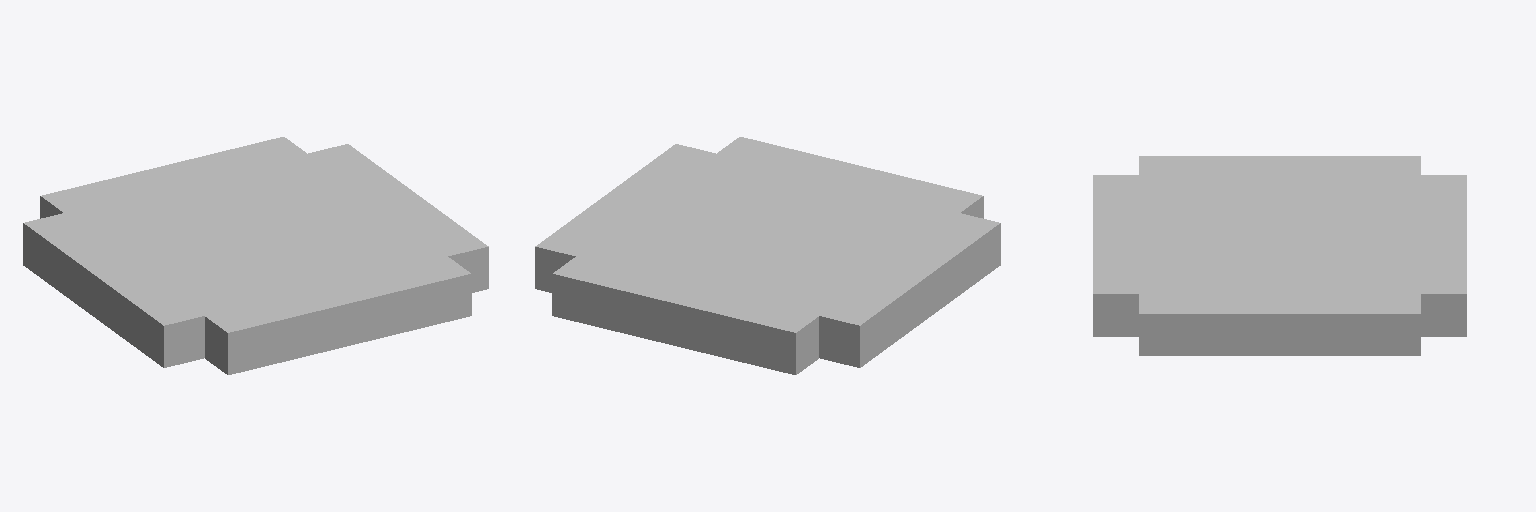
Rendered from tomate.obj.
3 renders of one model, left to right at view 1: azimuth 30°, elevation 25°; view 2: azimuth 150°, elevation 25°; view 3: azimuth 270°, elevation 25°, orthographic.
Bounding box in the file's own units: 8 × 1 × 8.